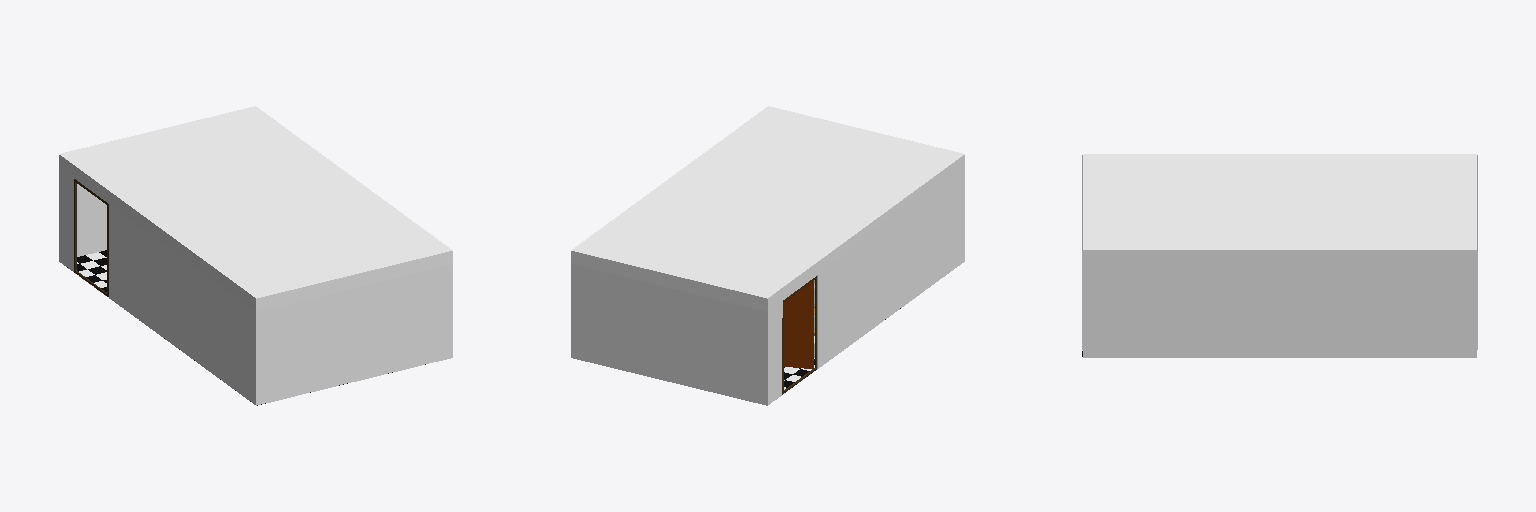
File: MaterialTest.obj
The picture shows the model from 3 angles: view 1: azimuth 30°, elevation 25°; view 2: azimuth 150°, elevation 25°; view 3: azimuth 270°, elevation 25°; orthographic projection.
Visible parts, largest first — view 1: Plane, Plane.001; view 2: Plane, Plane.002, Plane.001; view 3: Plane.
Boxes of the visible parts, x1,y1,x2,y2 form: Plane: [59, 106, 452, 405]; Plane.001: [74, 179, 108, 296]; Plane: [571, 106, 964, 405]; Plane.002: [784, 281, 813, 368]; Plane.001: [782, 276, 816, 394]; Plane: [1082, 154, 1477, 357].
Size of the model in its own units: 13.95 by 7.28 by 24.26.